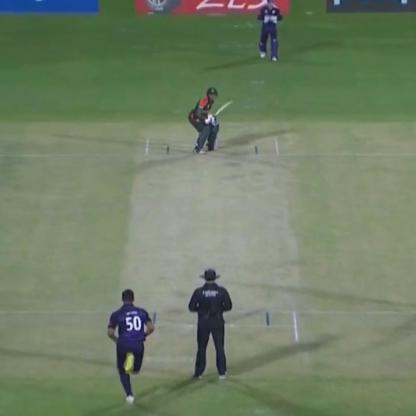bat: (206, 100, 241, 125)
pitch: (134, 137, 310, 355)
